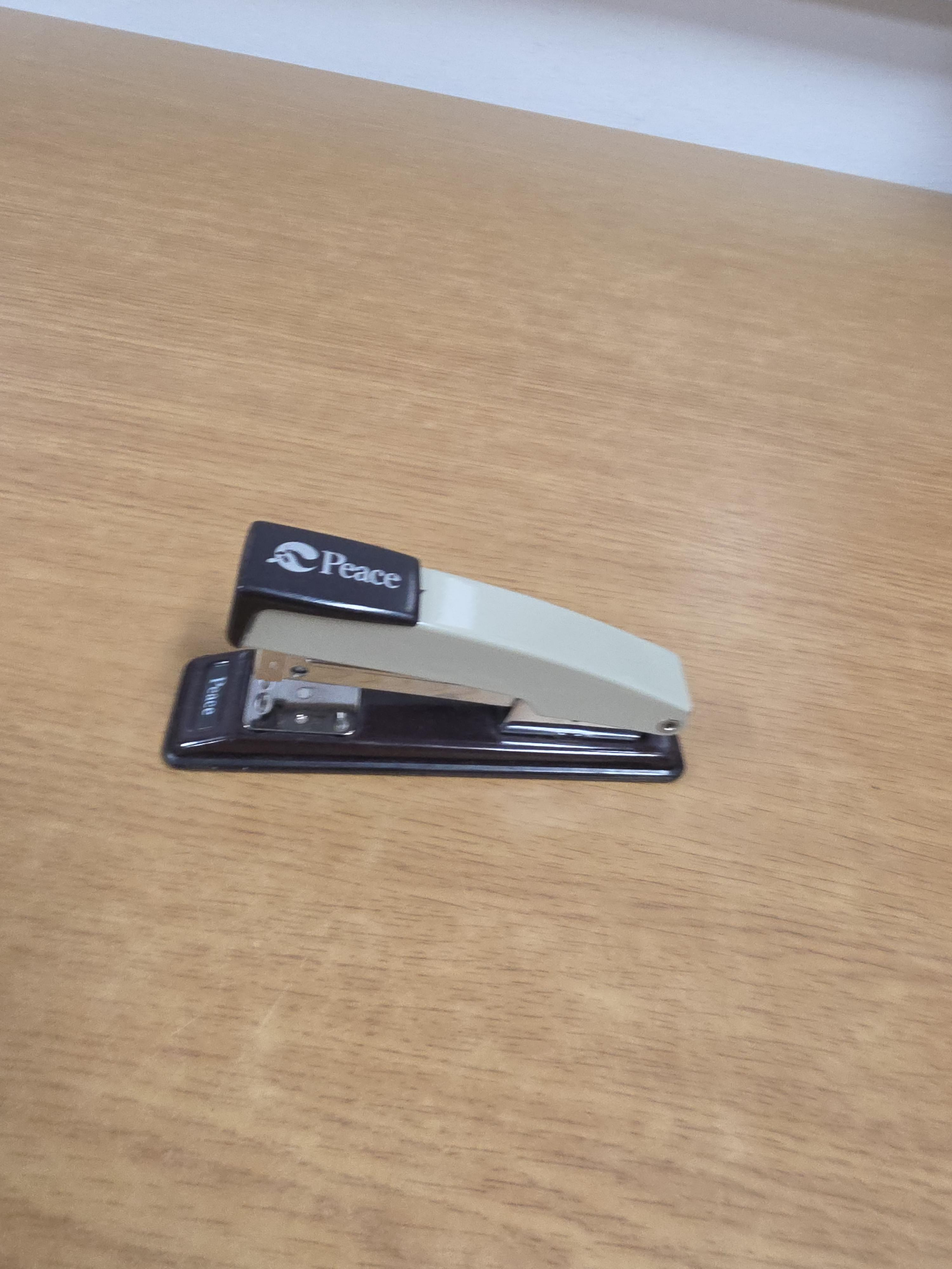stapler: (161, 521, 693, 782)
